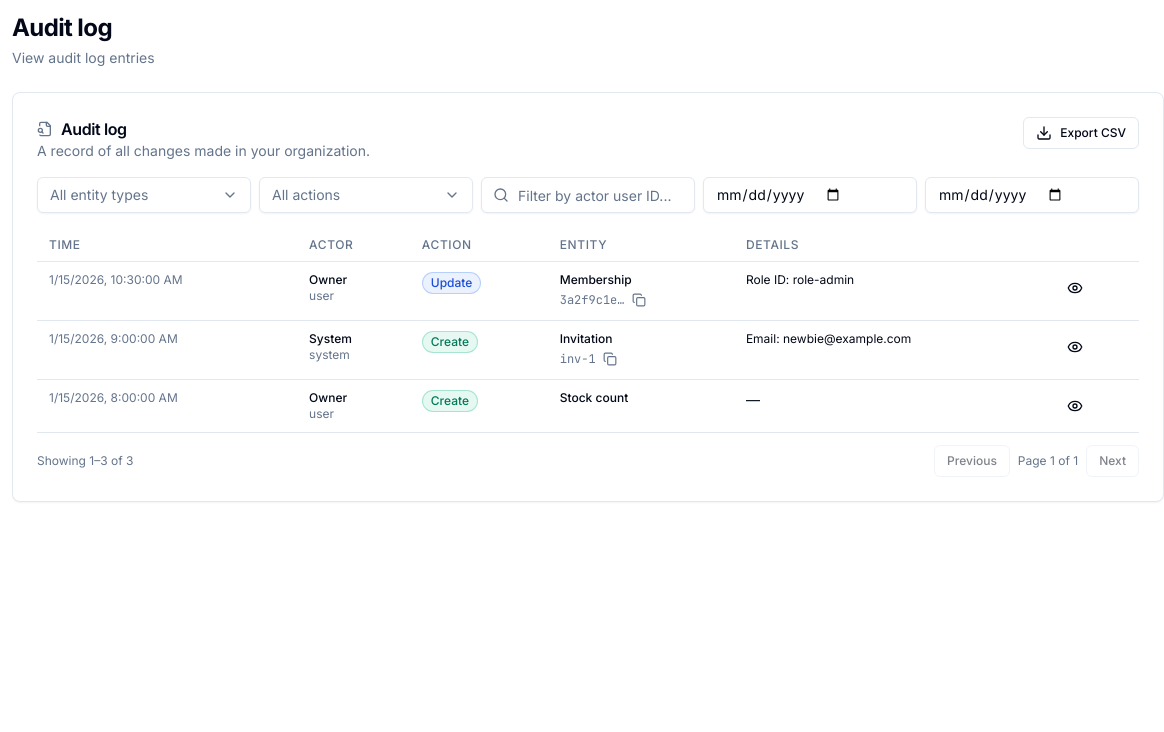
AuditLogSettingsPage — CSV export › exports all filtered entries as a CSV with the humanized labels
The width and height of the screenshot is (1164, 732).
Expected: the table is shown, [37,229,1139,432]
Click the button "Export CSV" at [1081, 133], box [1023,117,1139,149]
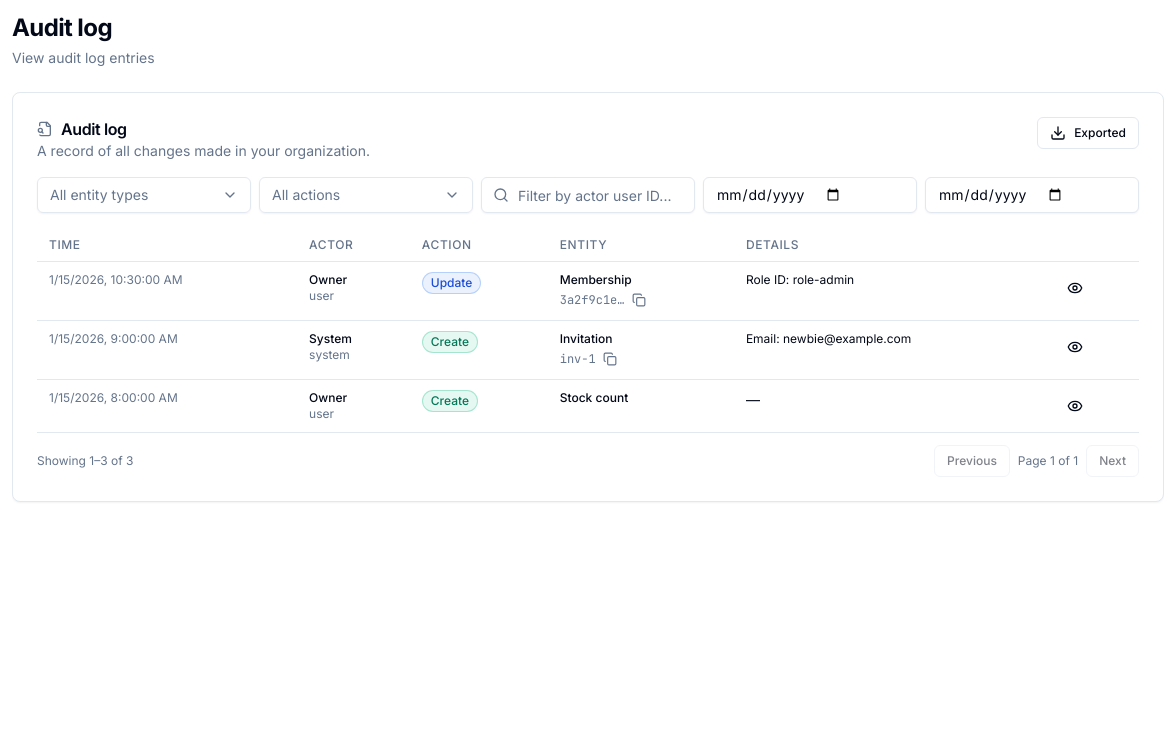
Result: the button "Exported" is shown at [1037,117,1139,149]
